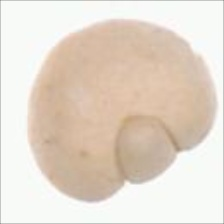L5: (111, 111, 181, 187), (34, 22, 97, 79)
L6: (23, 11, 221, 206)
